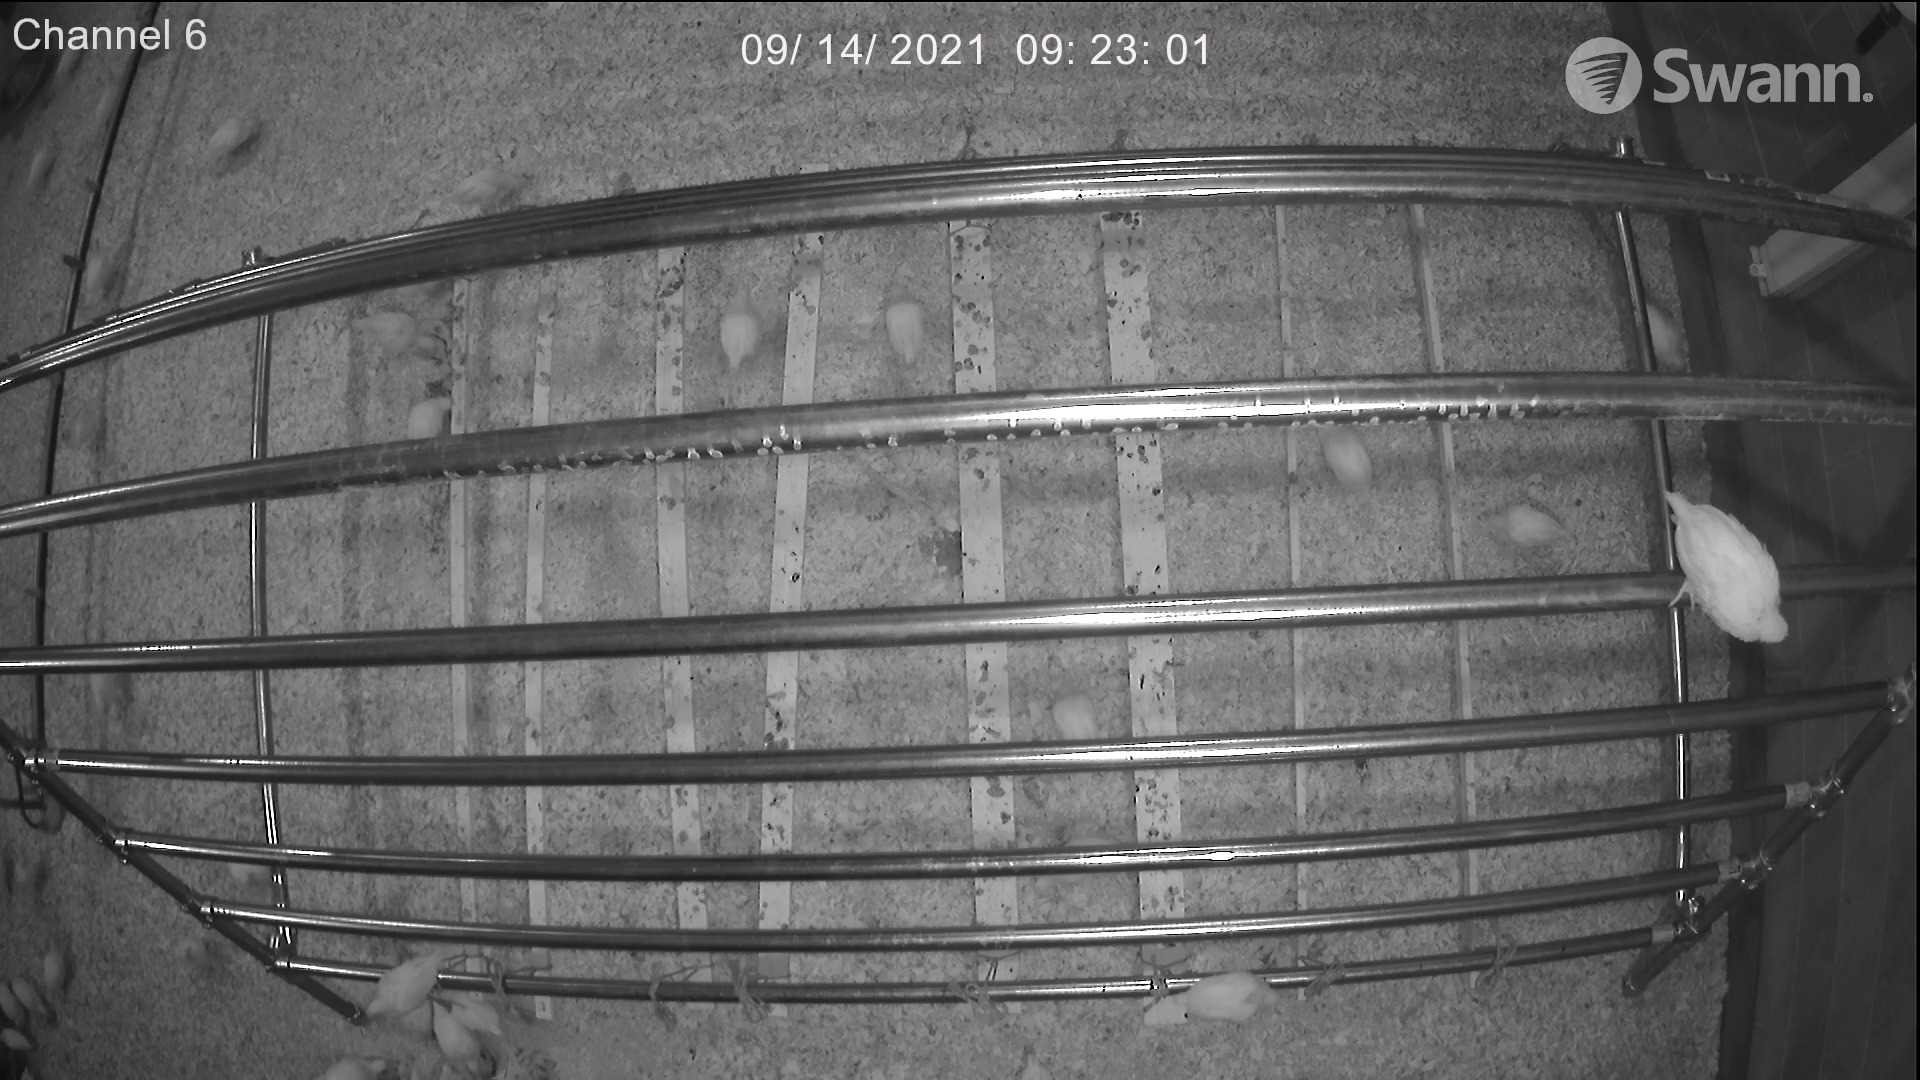Perching: (1639, 469, 1808, 659), (1146, 957, 1294, 1036), (339, 951, 446, 1021)
